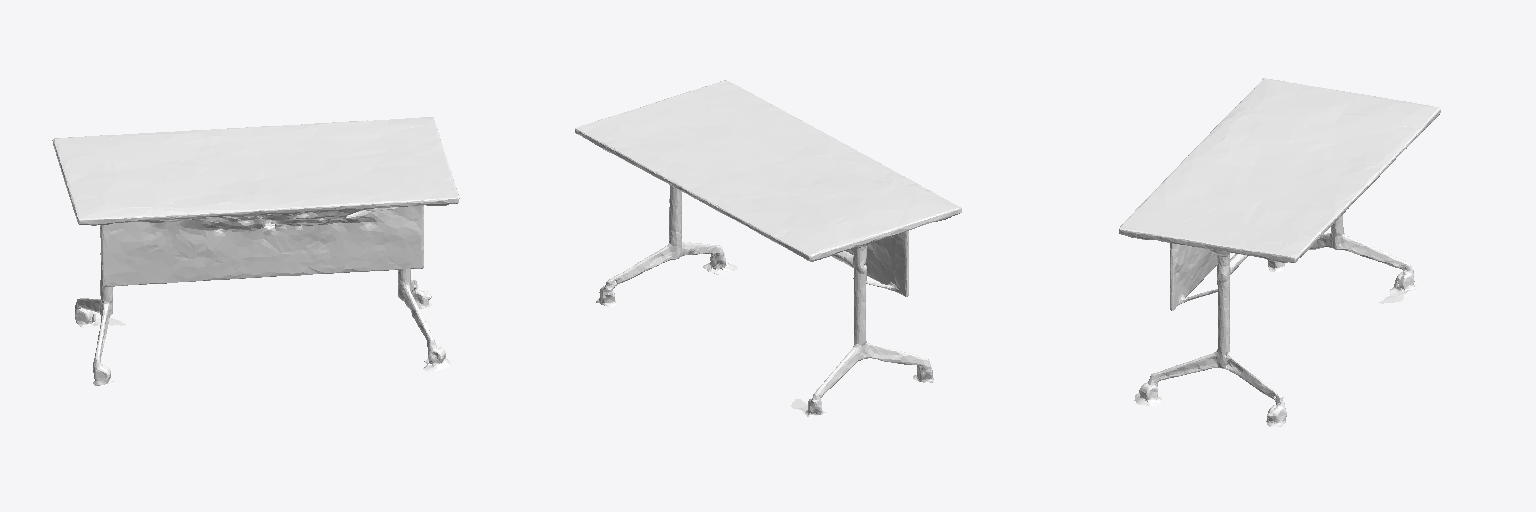
Rendered from mesh_lowpoly.obj.
The picture shows the model from 3 angles: view 1: azimuth 30°, elevation 25°; view 2: azimuth 150°, elevation 25°; view 3: azimuth 270°, elevation 25°; orthographic projection.
Bounding box in the file's own units: 2.94 × 1.36 × 2.22.